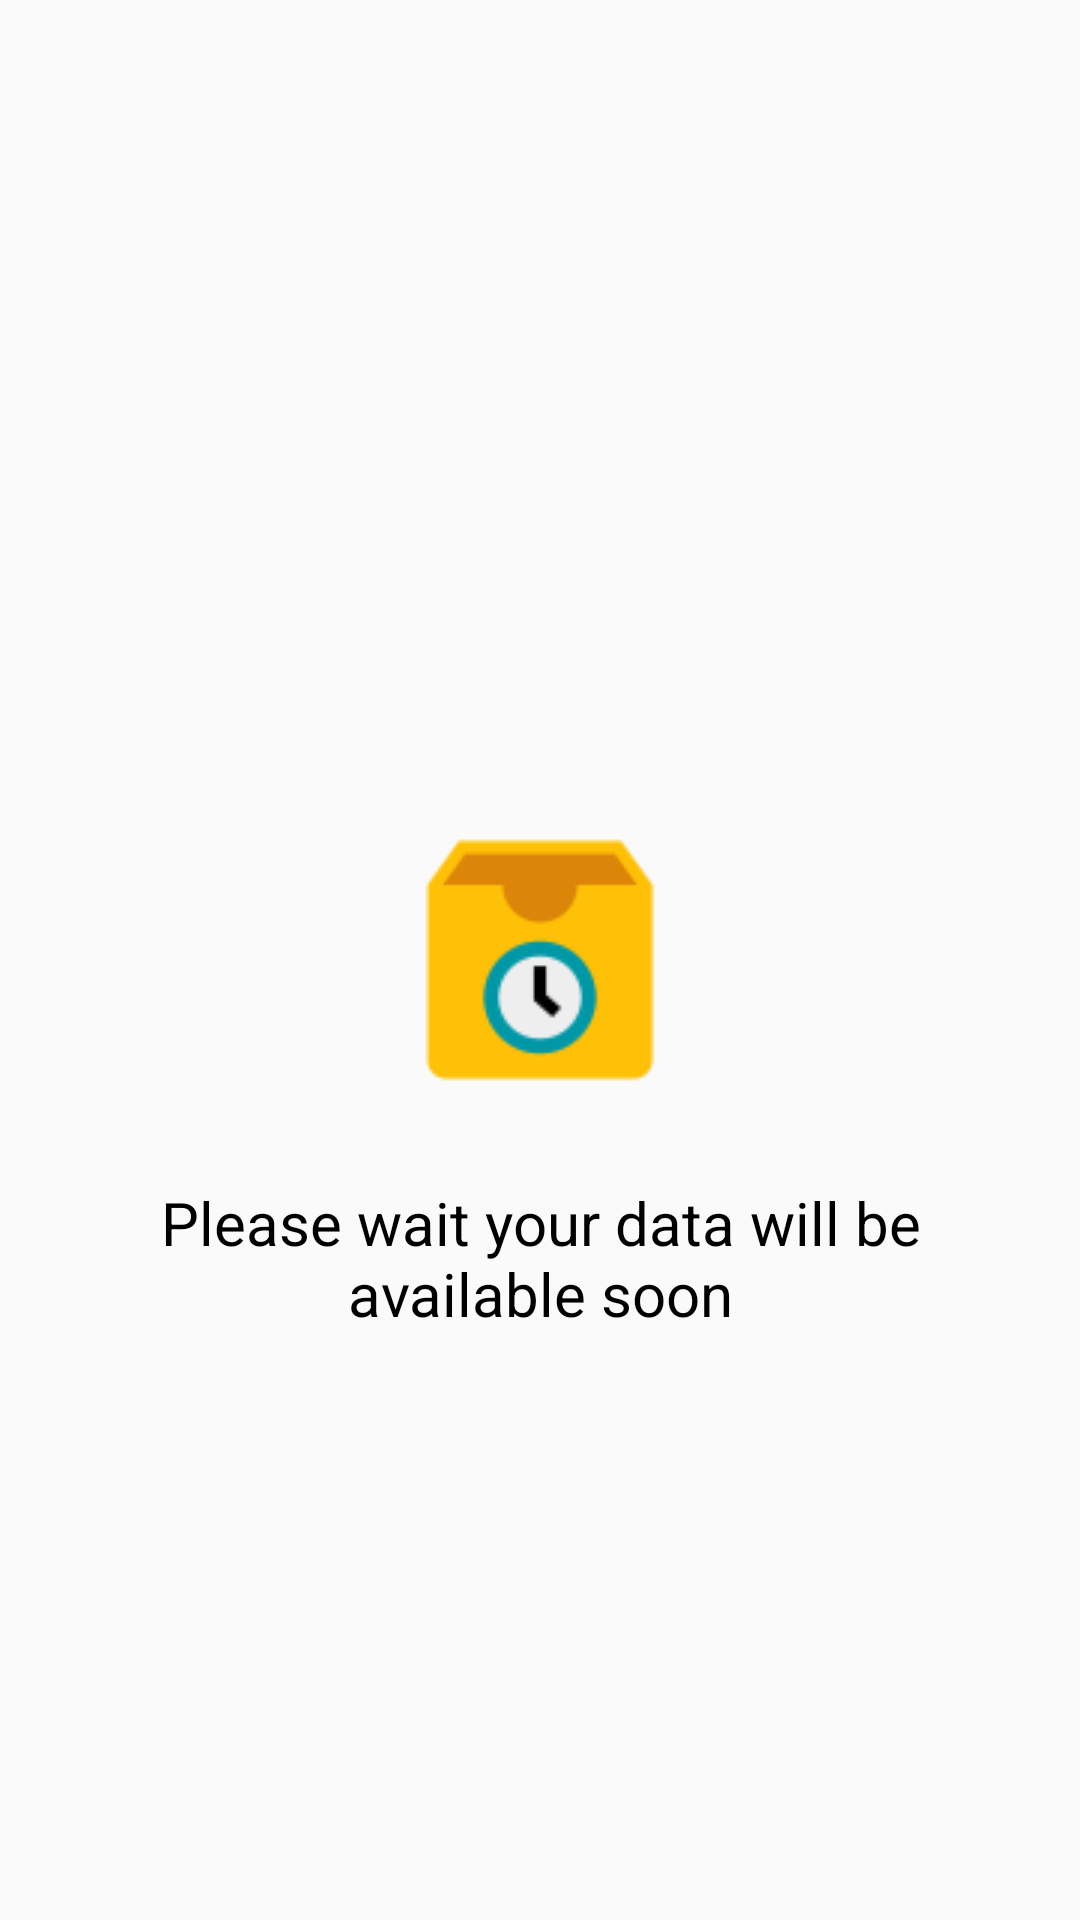

Where to tap for icons on this 1080×1920 app screen, as (x=x, y=y):
waiting for data: (x=540, y=960)
